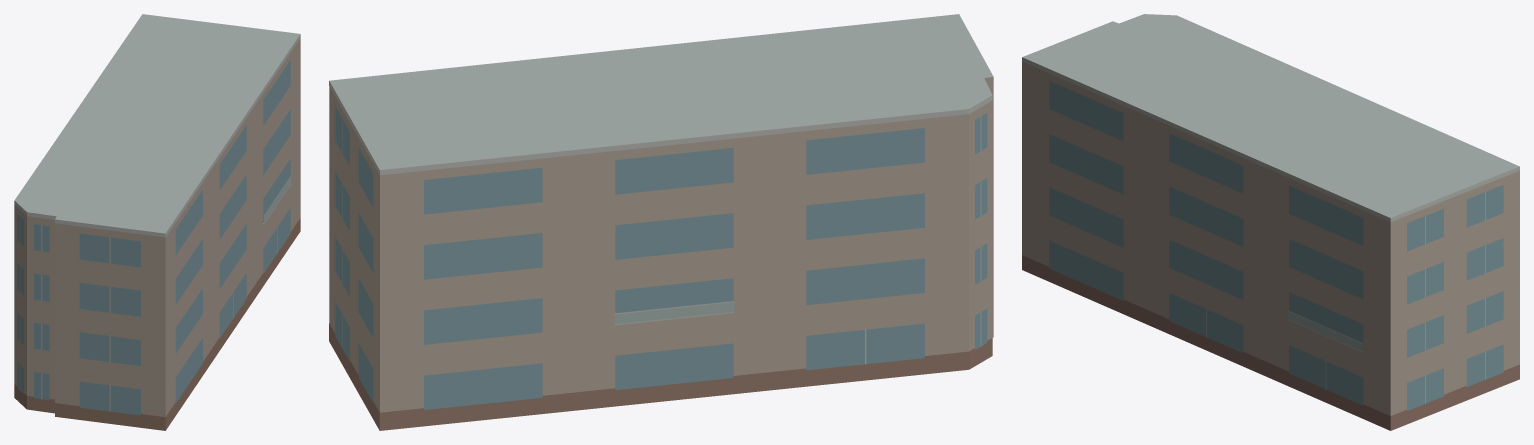
The model's file is survey-upis-33039326.glb.
3 renders of one model, left to right at view 1: azimuth 30°, elevation 25°; view 2: azimuth 150°, elevation 25°; view 3: azimuth 270°, elevation 25°, orthographic. The views are drawn at different scales.
Visible parts, largest first — view 1: survey-upis-33039326.tmp; view 2: survey-upis-33039326.tmp; view 3: survey-upis-33039326.tmp.
Boxes of the visible parts, x1,y1,x2,y2 form: survey-upis-33039326.tmp: (14, 14, 300, 430); survey-upis-33039326.tmp: (329, 14, 993, 430); survey-upis-33039326.tmp: (1022, 14, 1519, 430).
Bounding box in the file's own units: 25.33 × 12.31 × 26.1.
